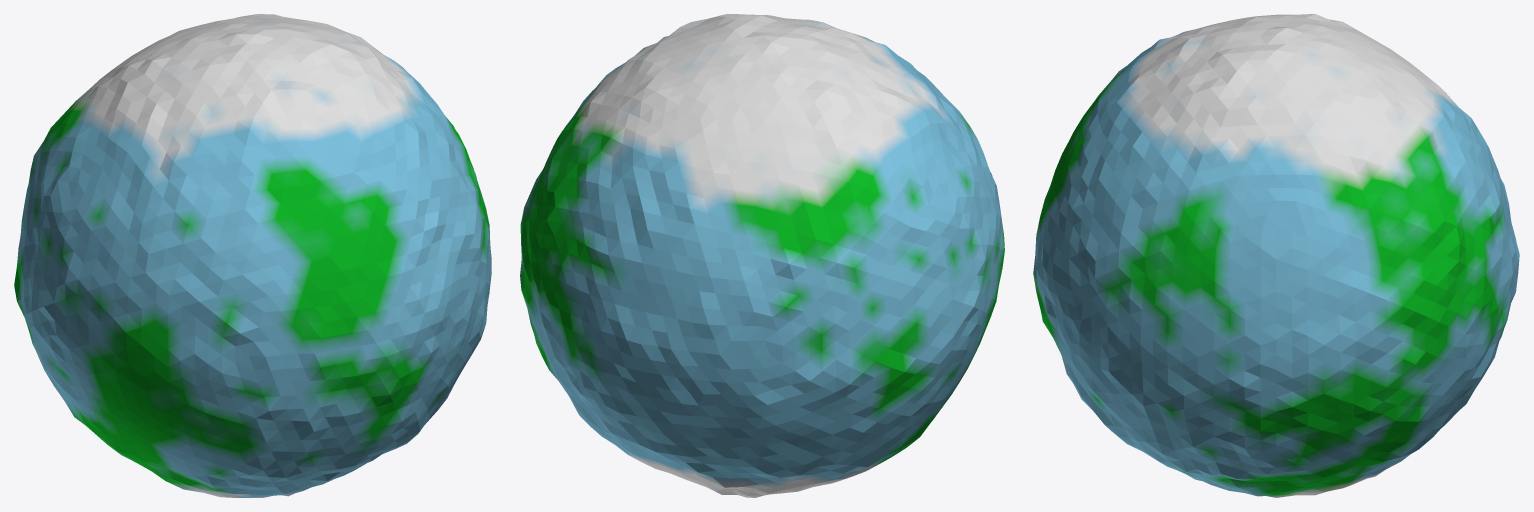
The model's file is world.dae.
3 renders of one model, left to right at view 1: azimuth 30°, elevation 25°; view 2: azimuth 150°, elevation 25°; view 3: azimuth 270°, elevation 25°, orthographic.
Parts seen in each view (by area): view 1: node; view 2: node; view 3: node.
Boxes of the visible parts, box(x1,y1,x2,y2) form: node: box(14, 14, 491, 497); node: box(520, 14, 1004, 497); node: box(1033, 14, 1519, 497).
Bounding box in the file's own units: 2.1 × 2.11 × 2.11.
